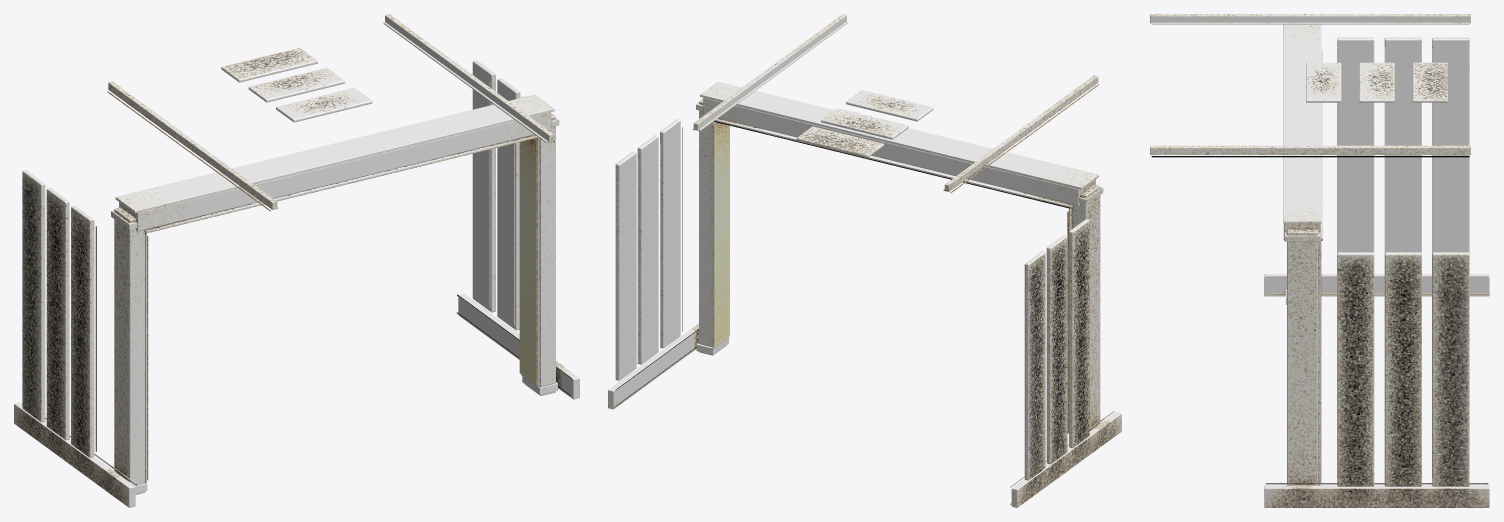
The model's file is entrance-v4-baked.glb.
3 views of the same model, side by side, from view 1: azimuth 30°, elevation 25°; view 2: azimuth 150°, elevation 25°; view 3: azimuth 270°, elevation 25° (orthographic). The views are drawn at different scales.
Visible parts, largest first — view 1: TEM_V4_CYCLES_BAKED_ENTRANCE; view 2: TEM_V4_CYCLES_BAKED_ENTRANCE; view 3: TEM_V4_CYCLES_BAKED_ENTRANCE.
Part boxes in pixels (x1=…): TEM_V4_CYCLES_BAKED_ENTRANCE: x1=14, y1=14, x2=579, y2=507; TEM_V4_CYCLES_BAKED_ENTRANCE: x1=608, y1=14, x2=1121, y2=507; TEM_V4_CYCLES_BAKED_ENTRANCE: x1=1150, y1=14, x2=1489, y2=507.
Bounding box in the file's own units: 8.95 × 6.16 × 5.93.
Materials: 1 (1 with a texture image).
